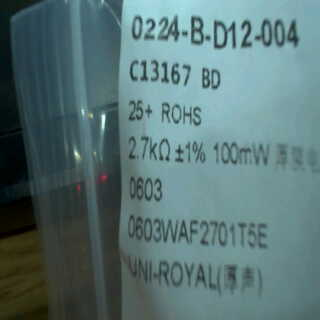2.7kR: (125, 135, 175, 168)
